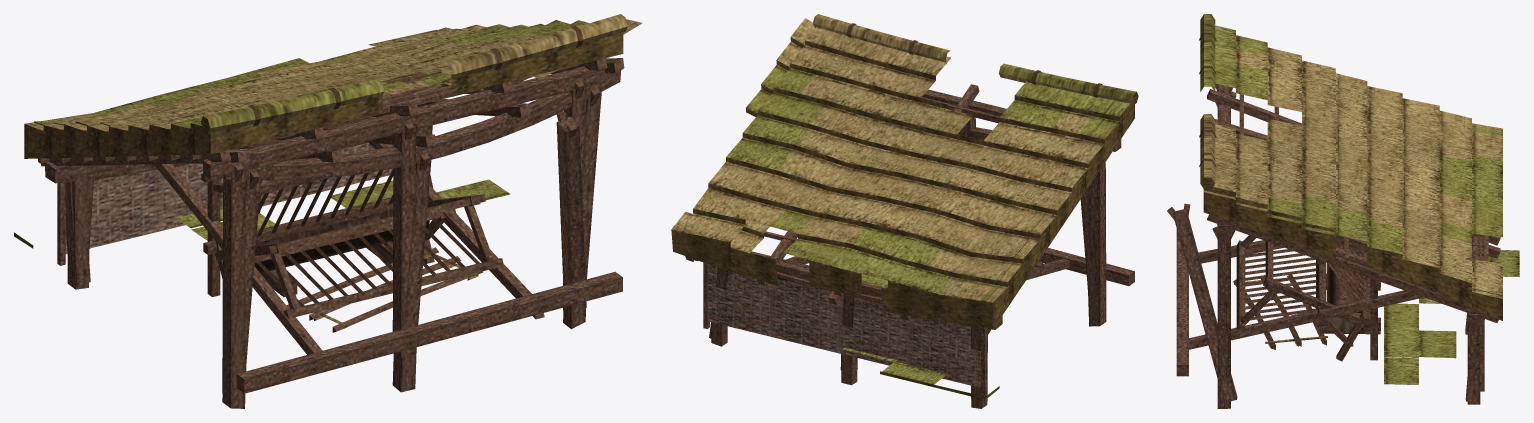
The model's file is pen-decay.glb.
The picture shows the model from 3 angles, left to right: view 1: azimuth 30°, elevation 25°; view 2: azimuth 150°, elevation 25°; view 3: azimuth 270°, elevation 25°; orthographic projection. The views are drawn at different scales.
Parts seen in each view (by area): view 1: shelter-1, shelter-1-thatch, shelter-2, shelter-3, rack-fallen, shelter-1-moss, rack-empty, trough-dry, shelter-3-moss, gate-fallen, shelter-2-thatch, shelter-2-moss; view 2: shelter-1-thatch, shelter-1, shelter-1-moss, shelter-2-thatch, shelter-3, shelter-2, shelter-3-moss, shelter-2-moss; view 3: shelter-1-thatch, shelter-1-moss, shelter-3, shelter-2, rack-fallen, shelter-3-moss, shelter-2-thatch, shelter-1, rack-empty, trough-dry, gate-fallen, shelter-2-moss.
Boxes of the visible parts, box(x1,y1,x2,y2) form: shelter-1: box(38, 58, 607, 399); shelter-1-thatch: box(24, 14, 627, 158); shelter-2: box(47, 58, 624, 408); shelter-3: box(45, 111, 622, 393); rack-fallen: box(215, 194, 503, 318); shelter-1-moss: box(94, 23, 570, 128); rack-empty: box(201, 128, 434, 296); trough-dry: box(254, 210, 429, 297); shelter-3-moss: box(14, 179, 510, 248); gate-fallen: box(286, 247, 482, 332); shelter-2-thatch: box(34, 19, 642, 152); shelter-2-moss: box(34, 20, 589, 124); shelter-1-thatch: box(678, 14, 1138, 329); shelter-1: box(693, 84, 1121, 405); shelter-1-moss: box(726, 63, 1136, 294); shelter-2-thatch: box(671, 18, 1115, 327); shelter-3: box(709, 248, 1134, 400); shelter-2: box(685, 127, 1106, 408); shelter-3-moss: box(843, 347, 999, 399); shelter-2-moss: box(746, 65, 1114, 300); shelter-1-thatch: box(1199, 47, 1502, 306); shelter-1-moss: box(1199, 14, 1502, 253); shelter-3: box(1167, 203, 1484, 402); shelter-2: box(1207, 91, 1500, 408); rack-fallen: box(1236, 235, 1364, 346); shelter-3-moss: box(1384, 250, 1519, 384); shelter-2-thatch: box(1203, 91, 1502, 320); shelter-1: box(1207, 83, 1500, 391); rack-empty: box(1317, 242, 1377, 361); trough-dry: box(1317, 242, 1380, 334); gate-fallen: box(1233, 274, 1327, 349); shelter-2-moss: box(1215, 33, 1502, 235).
Bounding box in the file's own units: 4.85 × 3.5 × 4.24.
4 materials, 4 textured.
